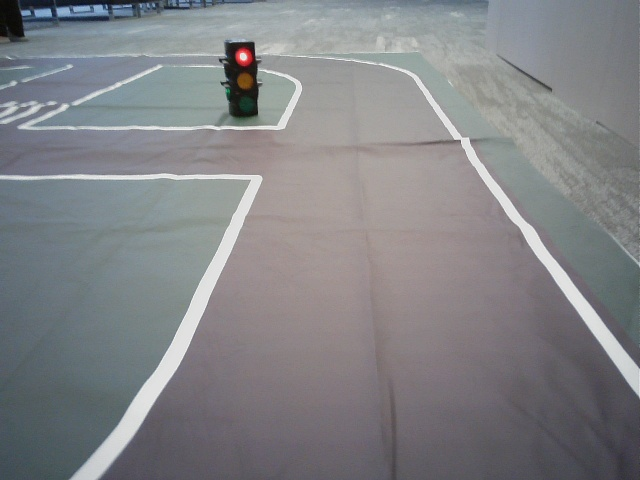red: (231, 46, 255, 115)
